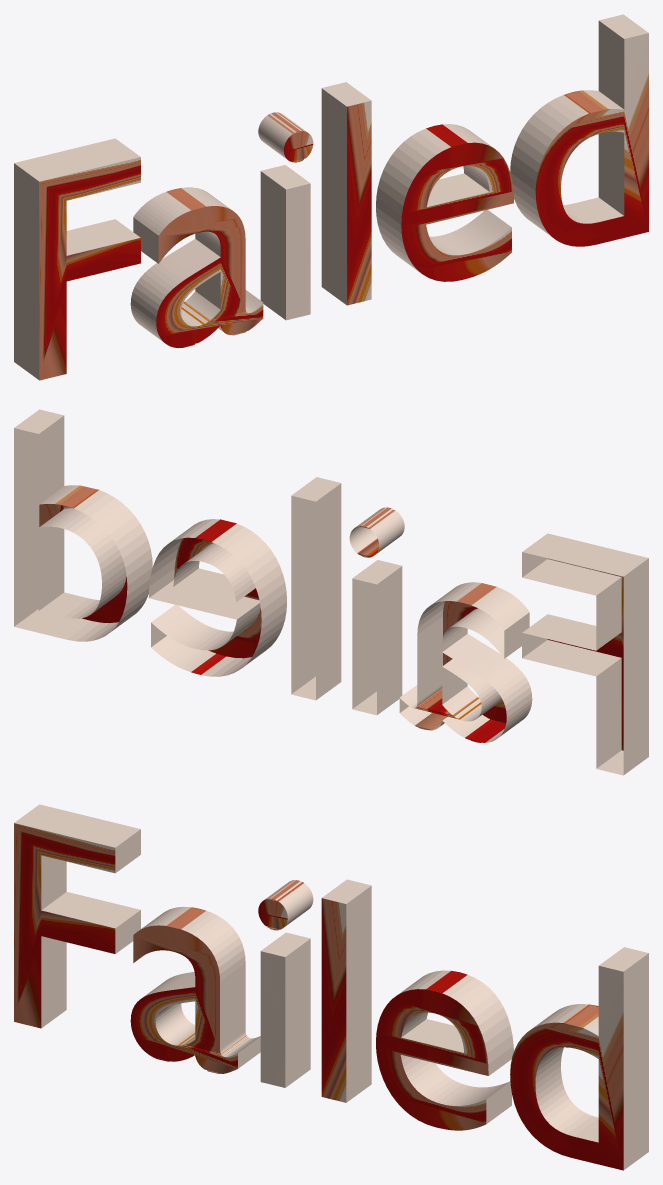
The model's file is Failed.obj.
The picture shows the model from 3 angles, top to bottom: view 1: azimuth 30°, elevation 25°; view 2: azimuth 150°, elevation 25°; view 3: azimuth 330°, elevation 25°; orthographic projection.
Visible parts, largest first — view 1: テキスト; view 2: テキスト; view 3: テキスト.
Boxes of the visible parts, x1=… form: テキスト: x1=14, y1=14, x2=648, y2=380; テキスト: x1=14, y1=409, x2=648, y2=775; テキスト: x1=14, y1=804, x2=648, y2=1170.
Size of the model in its own units: 7.36 by 2.32 by 0.533.
1 material, 1 textured.
